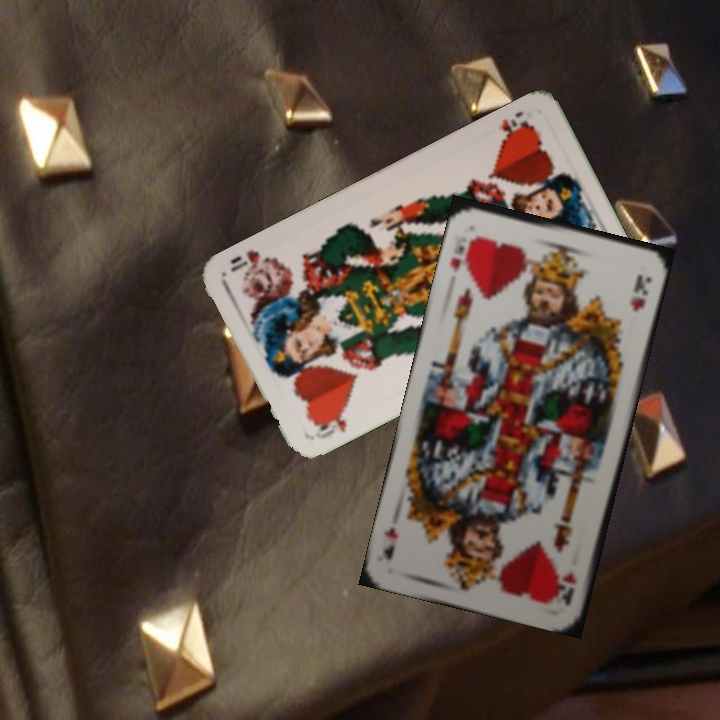HK: (445, 231, 478, 275), (554, 568, 580, 608)
HO: (496, 106, 536, 144), (310, 405, 350, 442)
